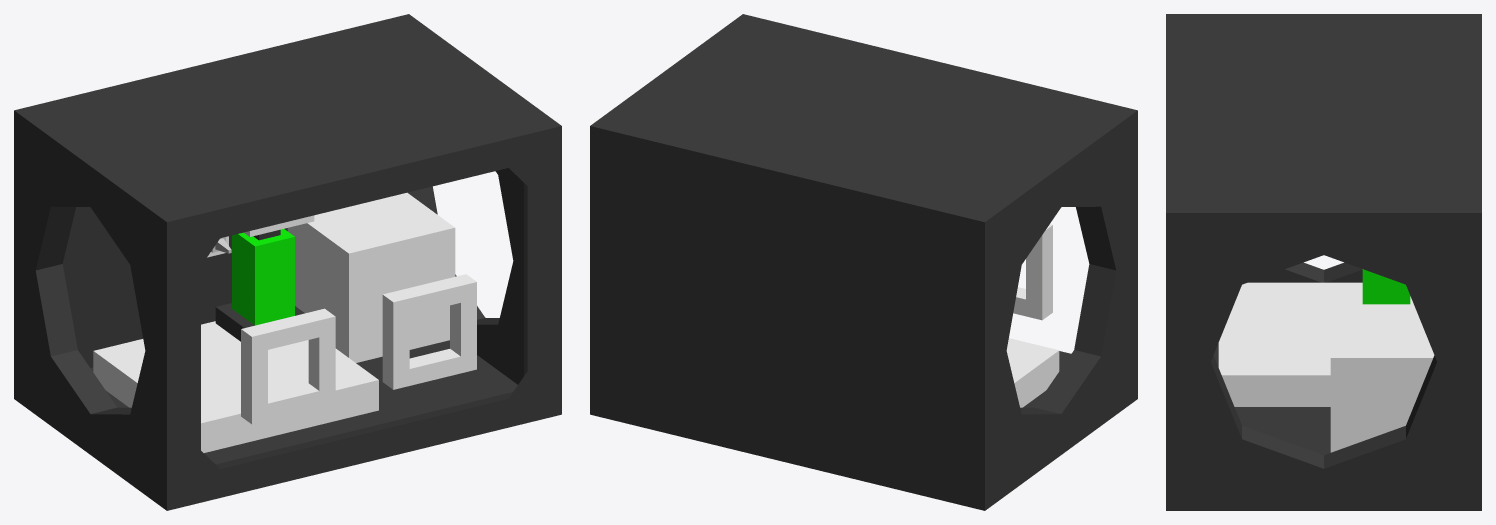
The model's file is 3DPrinter_01.fbx.
3 views of the same model, side by side, from view 1: azimuth 30°, elevation 25°; view 2: azimuth 150°, elevation 25°; view 3: azimuth 270°, elevation 25° (orthographic). The views are drawn at different scales.
Parts seen in each view (by area): view 1: SM_Prop_3DPrinter_01; view 2: SM_Prop_3DPrinter_01; view 3: SM_Prop_3DPrinter_01.
Part boxes in pixels (left/top/right/bottom): SM_Prop_3DPrinter_01: left=14, top=14, right=561, bottom=510; SM_Prop_3DPrinter_01: left=590, top=14, right=1137, bottom=510; SM_Prop_3DPrinter_01: left=1166, top=14, right=1481, bottom=510.
Size of the model in its own units: 251 by 175 by 168.
